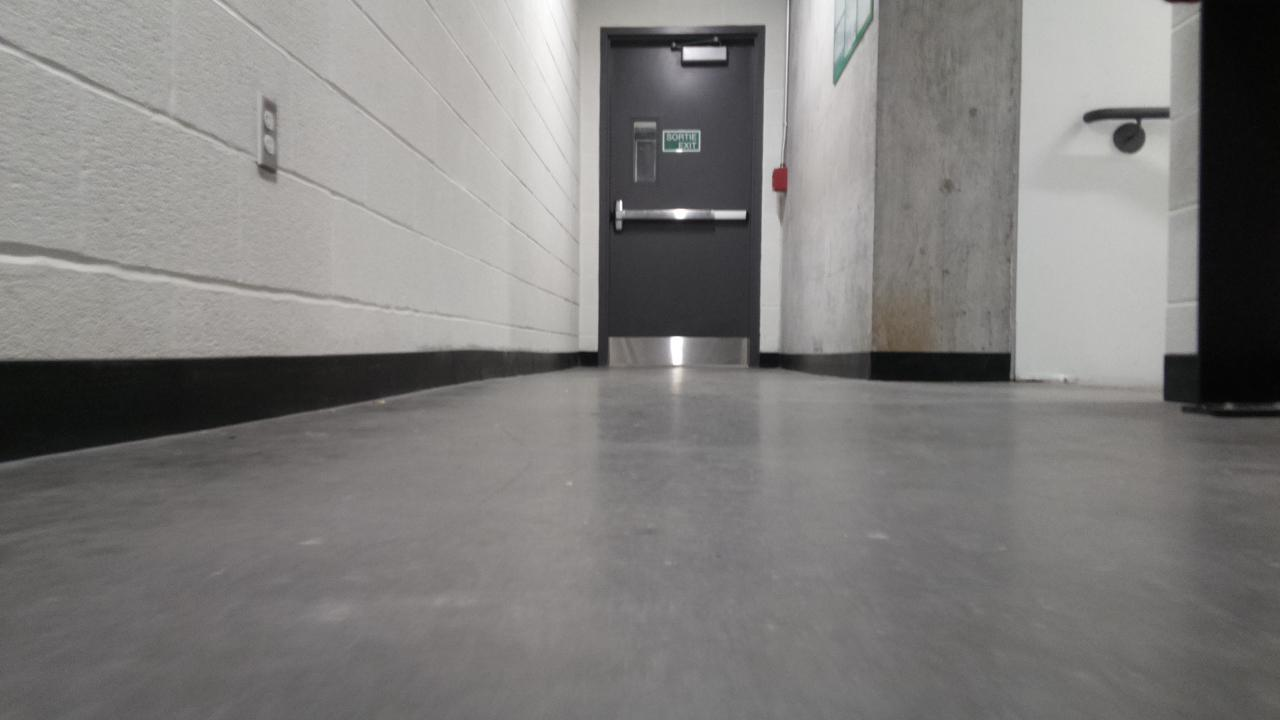door: (609, 41, 752, 367)
sign: (663, 130, 700, 151)
